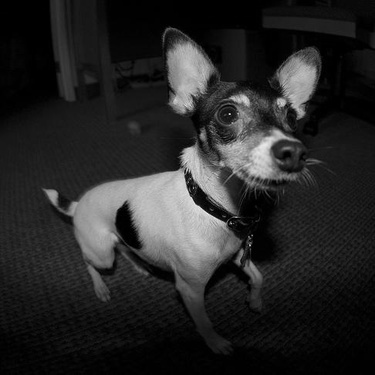dog: (33, 19, 338, 363)
